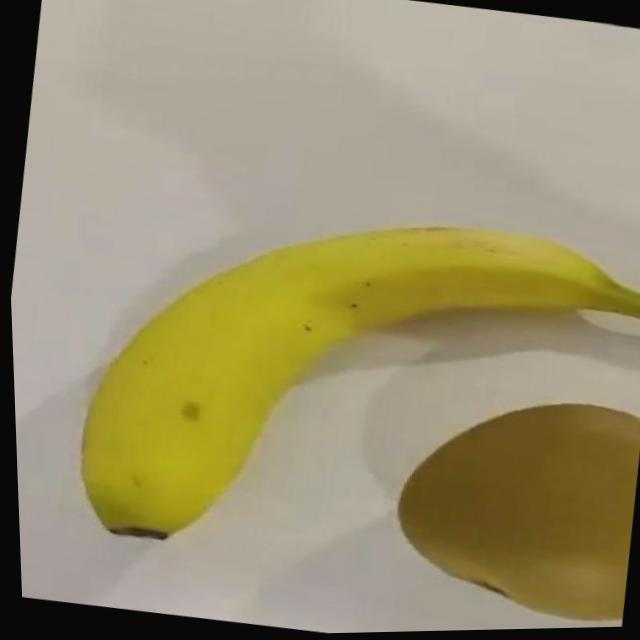Banana: (56, 176, 640, 611)
